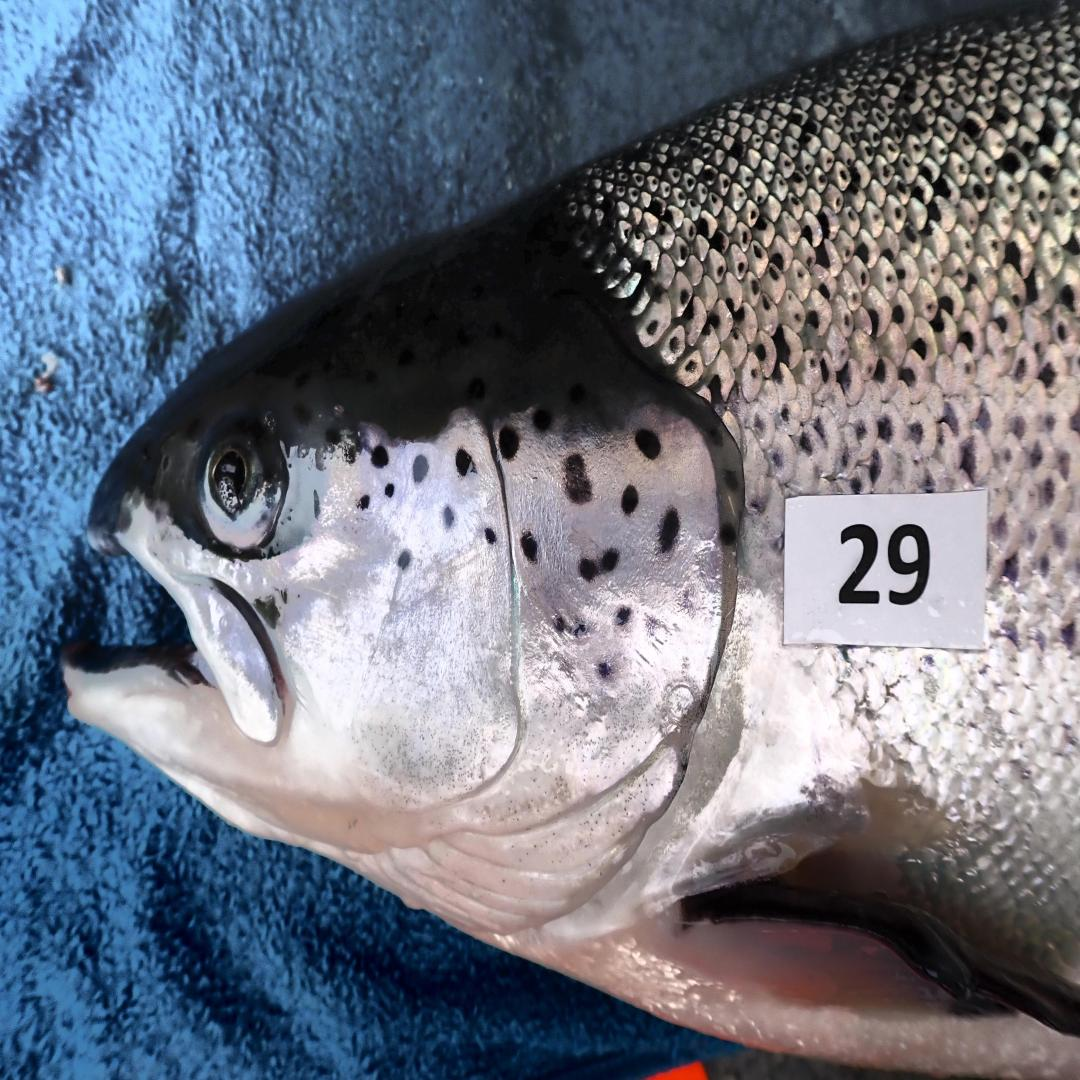spot: (578, 548, 620, 582), (565, 453, 593, 503), (658, 506, 679, 551), (555, 616, 591, 638), (498, 425, 519, 461), (643, 610, 667, 641), (635, 430, 660, 458), (677, 582, 694, 616), (369, 444, 390, 470), (456, 447, 475, 475), (551, 613, 574, 636), (622, 484, 639, 515), (521, 532, 538, 562), (532, 408, 553, 430), (413, 456, 428, 484), (616, 605, 633, 627), (720, 522, 736, 545), (597, 661, 614, 681), (397, 548, 411, 571), (724, 470, 738, 490), (485, 526, 498, 546), (443, 506, 454, 529), (344, 444, 356, 464), (356, 495, 369, 509), (384, 484, 394, 498)
